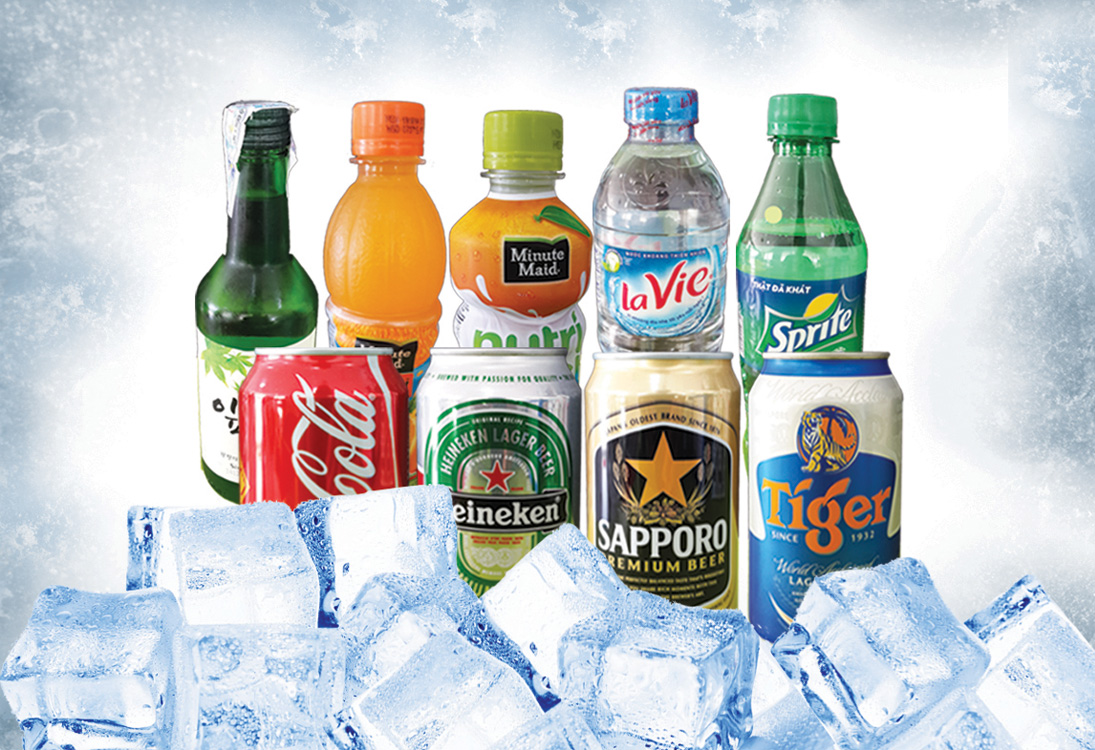heineken: (455, 500, 559, 527), (436, 427, 491, 475)
lavie: (616, 260, 711, 311)
minutemaid: (500, 236, 571, 285)
sapporo: (597, 517, 727, 556)
sprite: (762, 301, 853, 352)
tiger: (756, 477, 892, 550)
